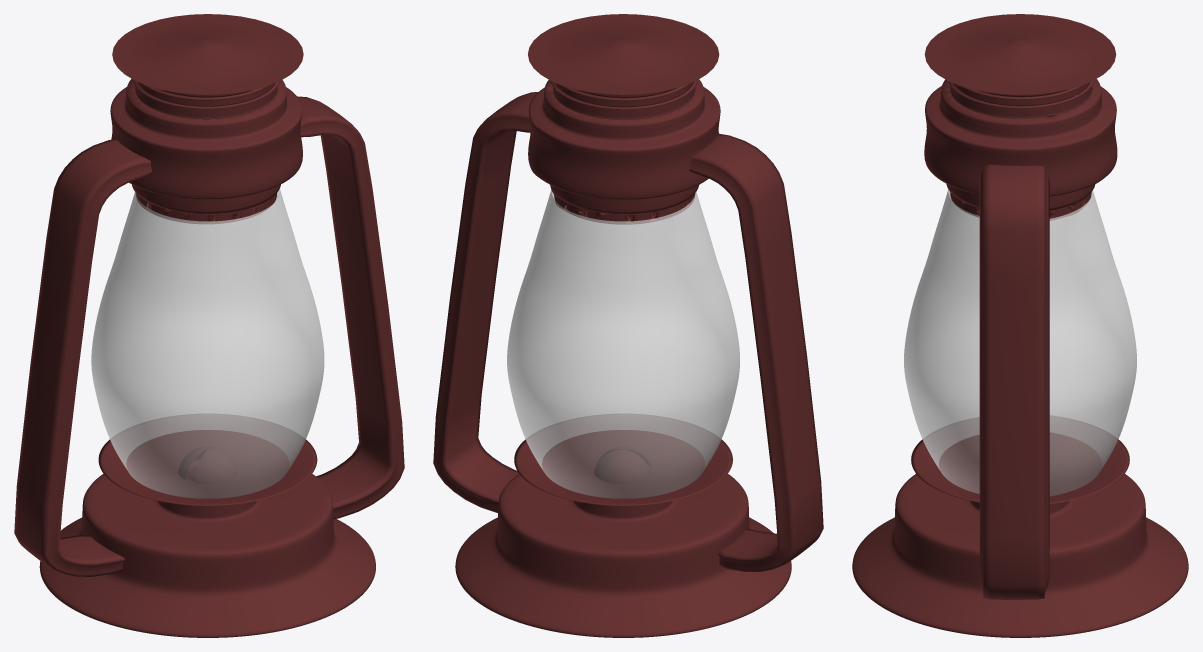
The picture shows the model from 3 angles, left to right: view 1: azimuth 30°, elevation 25°; view 2: azimuth 150°, elevation 25°; view 3: azimuth 270°, elevation 25°; orthographic projection.
Parts seen in each view (by area): view 1: Cylinder003, Cylinder001, Plane001, Cylinder005, Plane002, Cylinder004.001, Sphere001; view 2: Cylinder003, Cylinder001, Plane001, Cylinder005, Plane002, Cylinder004.001, Sphere001; view 3: Cylinder001, Cylinder003, Plane002, Cylinder005, Cylinder004.001.
Boxes of the visible parts, x1,y1,x2,y2 form: Cylinder003: (91,188,324,498); Cylinder001: (39,430,375,637); Plane001: (14,139,152,576); Cylinder005: (110,78,302,223); Plane002: (297,96,404,519); Cylinder004.001: (112,14,303,94); Sphere001: (178,446,236,483); Cylinder003: (507,190,739,498); Cylinder001: (455,430,791,637); Plane001: (689,133,823,571); Cylinder005: (528,79,720,224); Plane002: (433,92,537,512); Cylinder004.001: (528,14,719,94); Sphere001: (594,446,651,483); Cylinder001: (852,432,1188,637); Cylinder003: (904,189,1136,496); Plane002: (979,164,1049,599); Cylinder005: (924,79,1117,220); Cylinder004.001: (924,14,1116,94).
Size of the model in its own units: 189 by 264 by 152.
